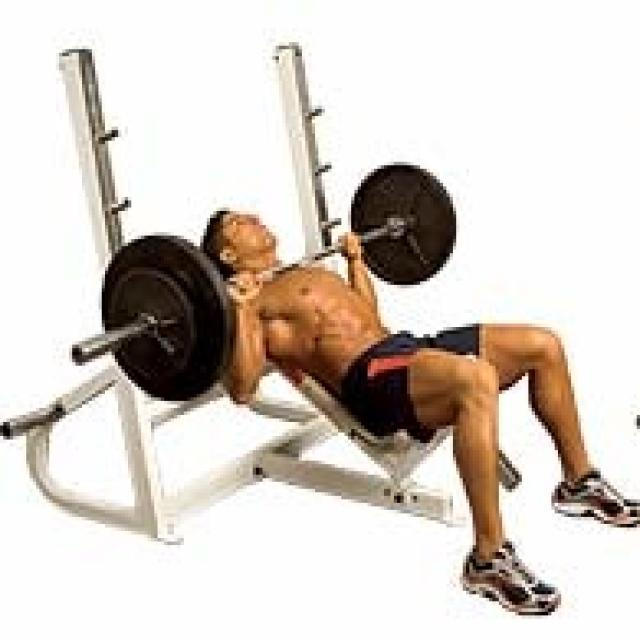bench: (52, 112, 640, 640)
